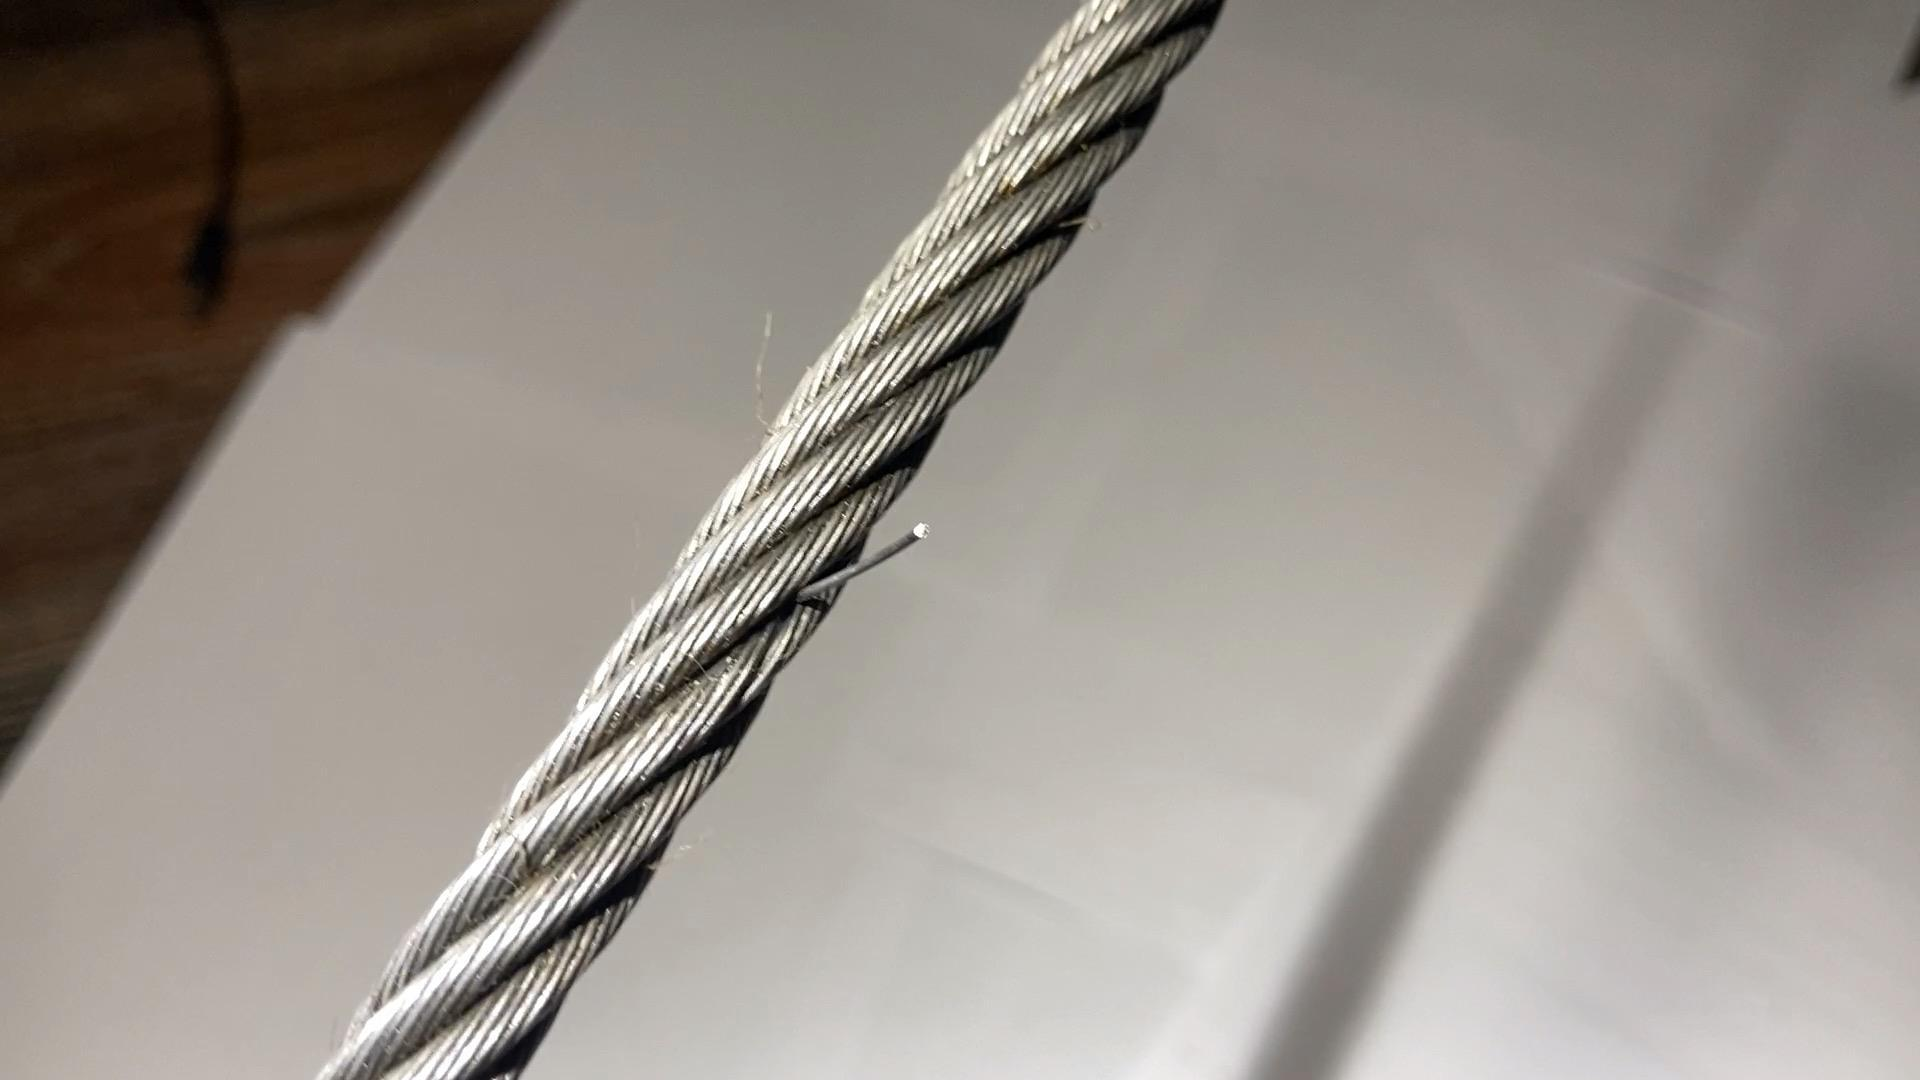break: (795, 497, 931, 607)
